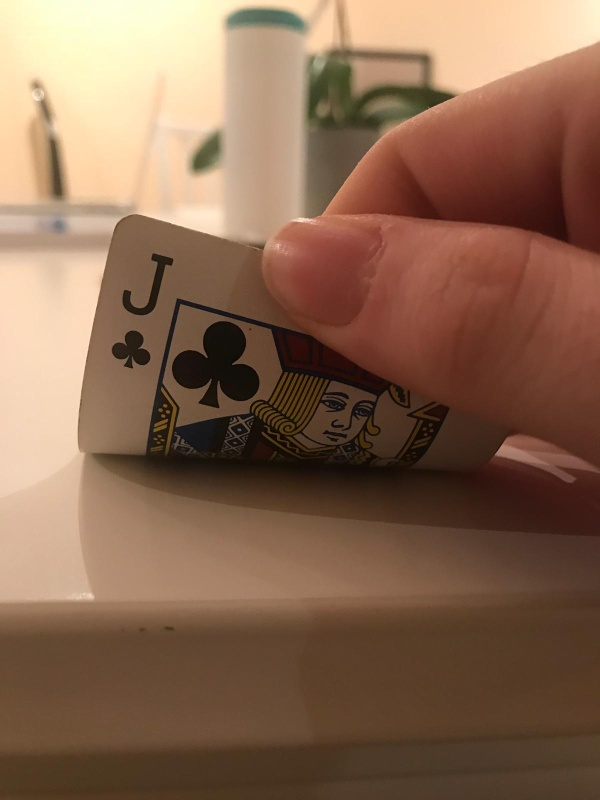Cj: (111, 246, 178, 374)
